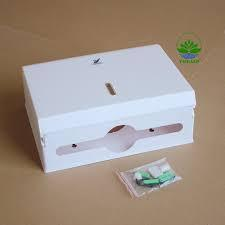box: (22, 43, 196, 174)
